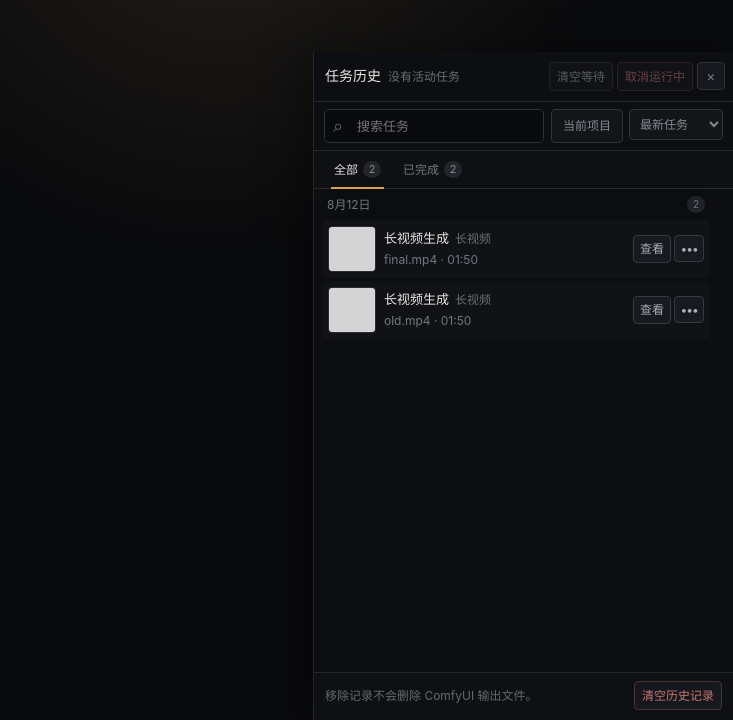
Test: ComfyUI 风格的任务历史抽屉 › 按服务端任务归属过滤当前项目
The image size is (733, 720).
Click the button "当前项目".
click(587, 126)  # box [551,109,623,143]
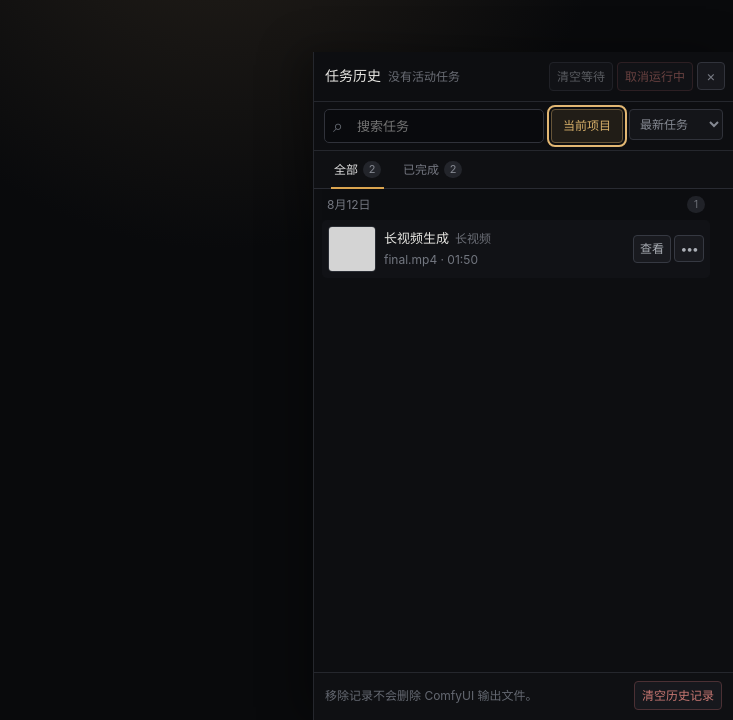
Check: the button "查看" is shown, box [633,235,671,263]
Check: the text "old.mp4" is gone
